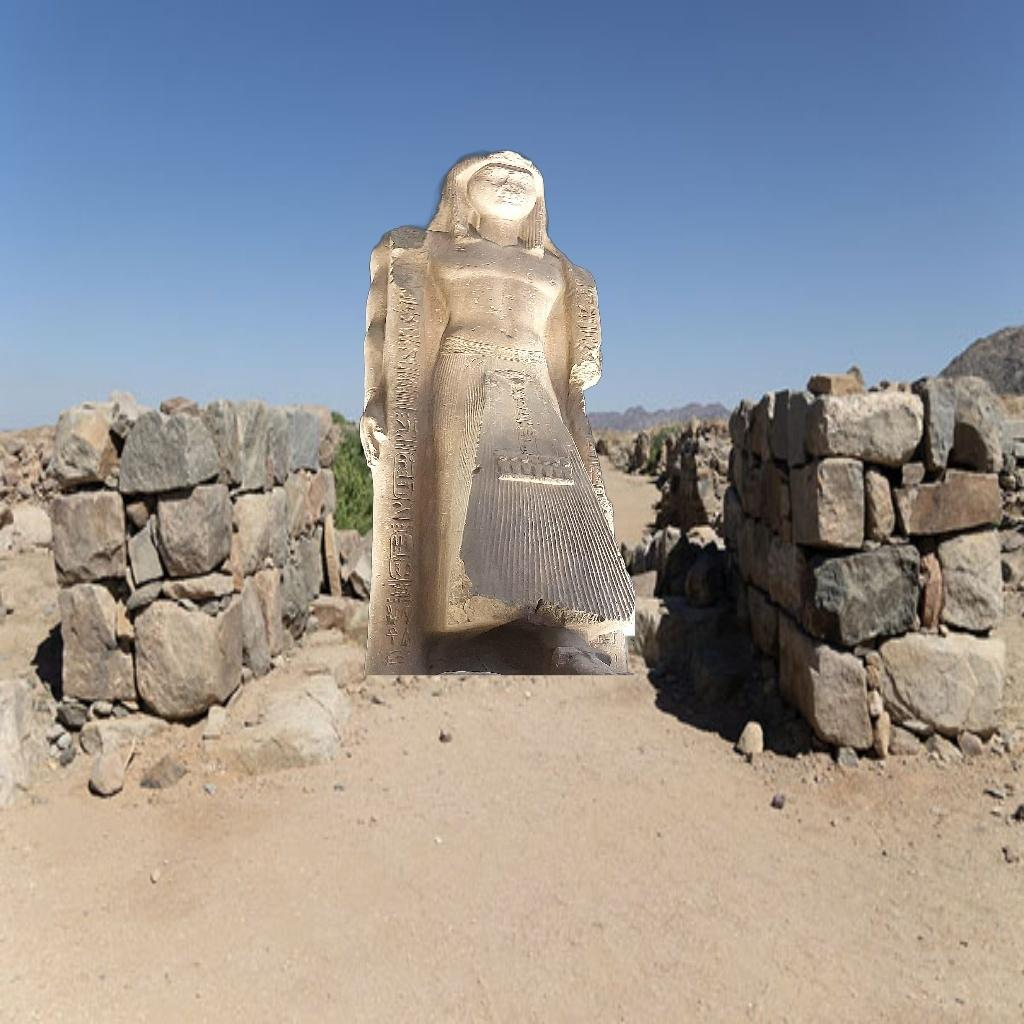Statue of King Sety Il Holding Standards: (354, 150, 635, 676)
